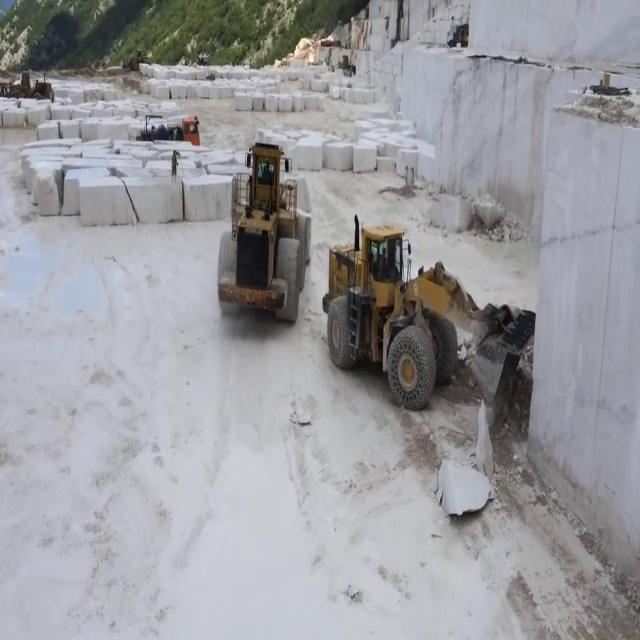Dump Truck: (138, 114, 200, 146)
Loader: (329, 192, 536, 438), (217, 132, 311, 338)
